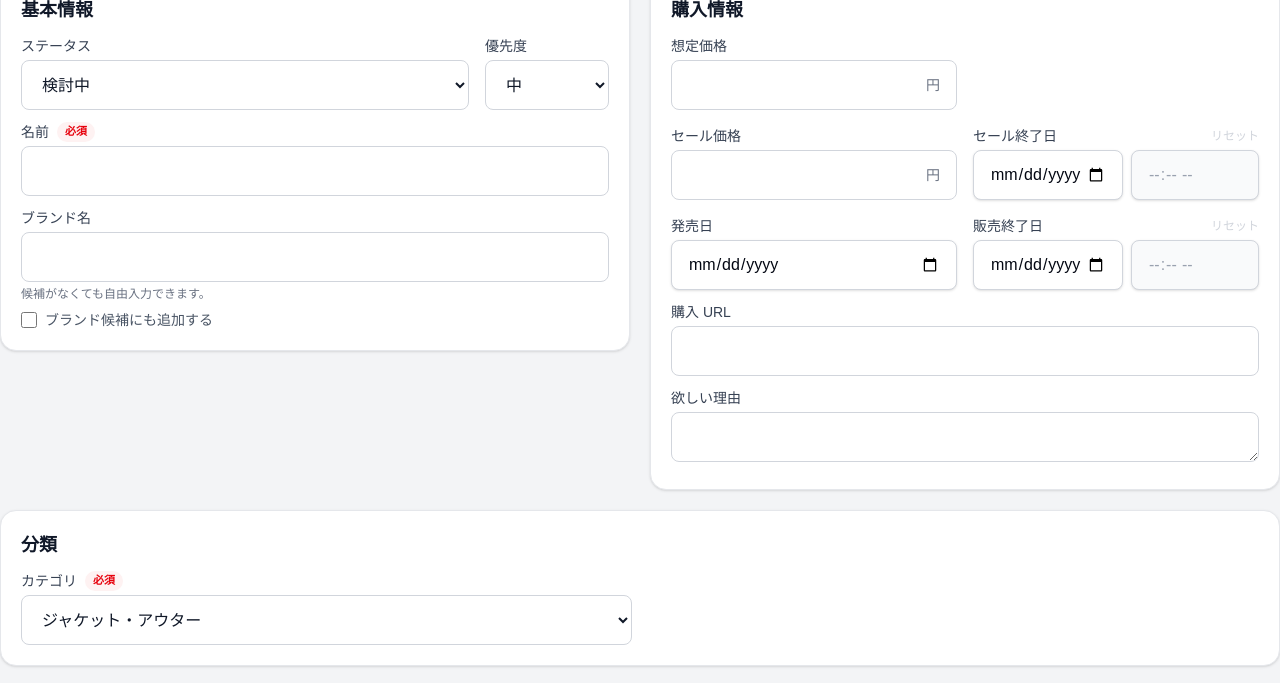
Test: 購入検討フォーム › outerwear / jacket では blazer を選べる
Select "ジャケット・アウター" in the dropdown with id "category_group_id": {"x": 326, "y": 620} [21, 595, 632, 645]
Select "ジャケット・アウター" in the dropdown with id "category_group_id": {"x": 326, "y": 620} [21, 595, 632, 645]
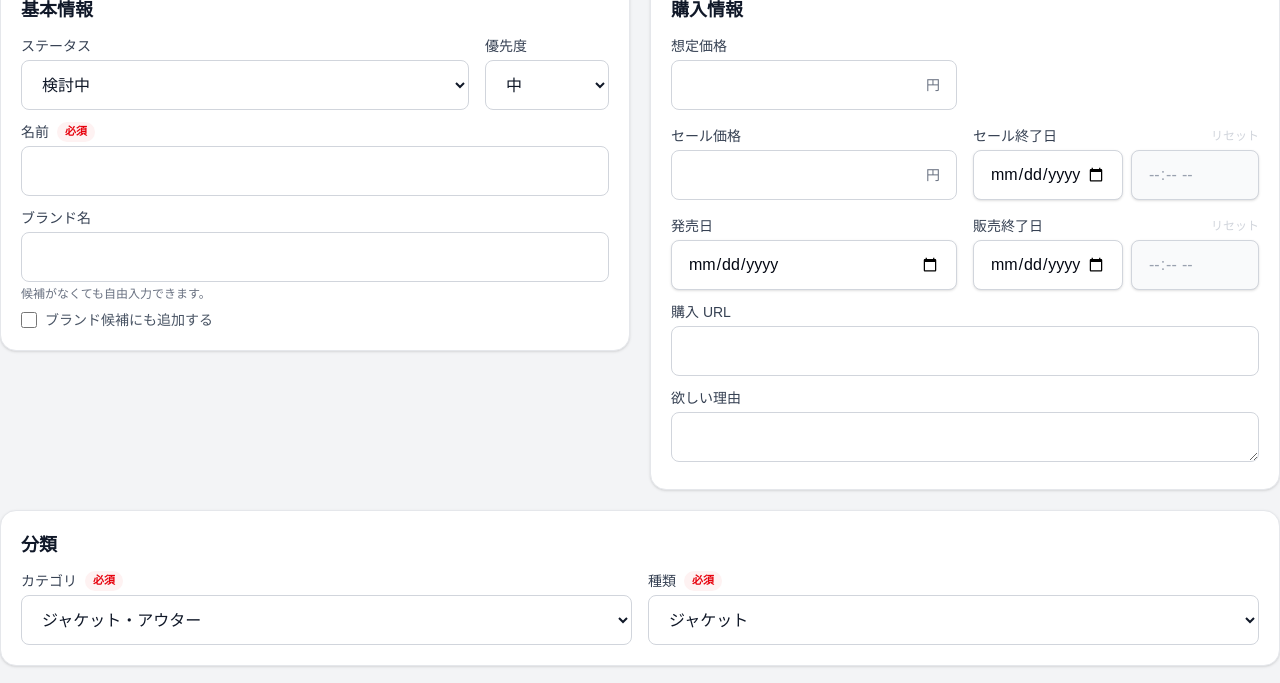
Select "ジャケット" in the dropdown with id "category_id": {"x": 954, "y": 620} [648, 595, 1259, 645]
Select "ジャケット" in the dropdown with id "category_id": {"x": 954, "y": 620} [648, 595, 1259, 645]
(page scrolled)
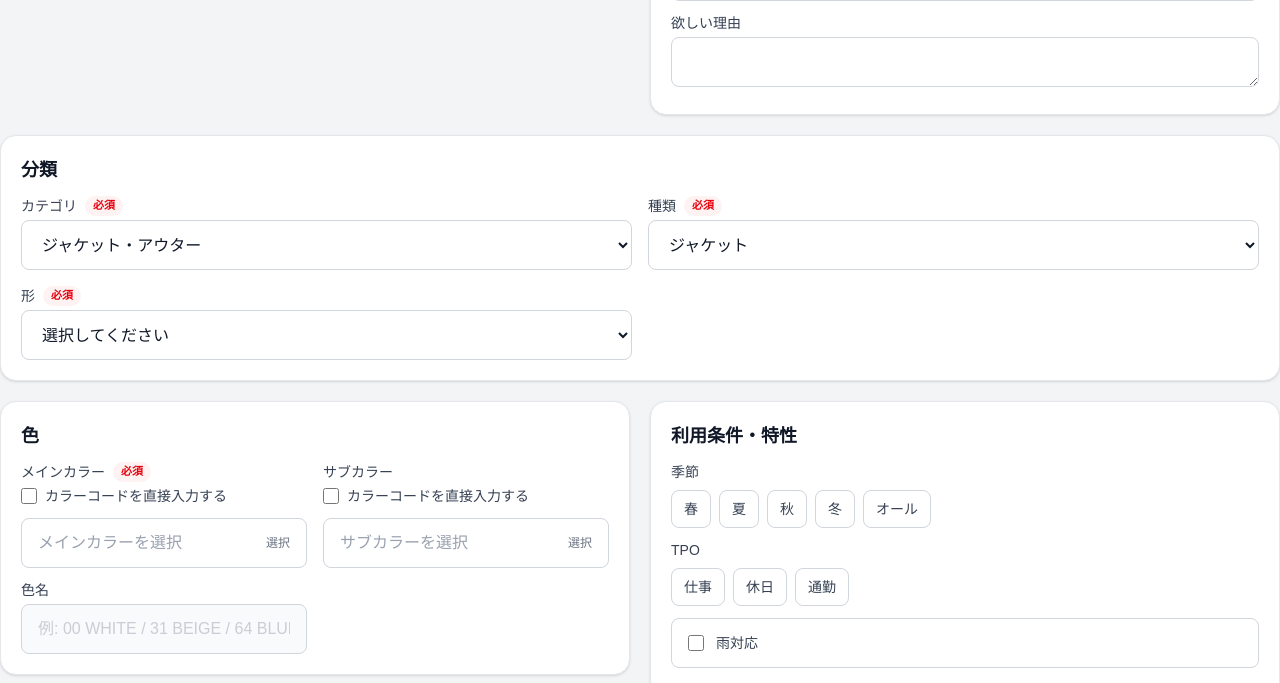
Expected: the dropdown with id "shape" is shown, [21, 310, 632, 360]
